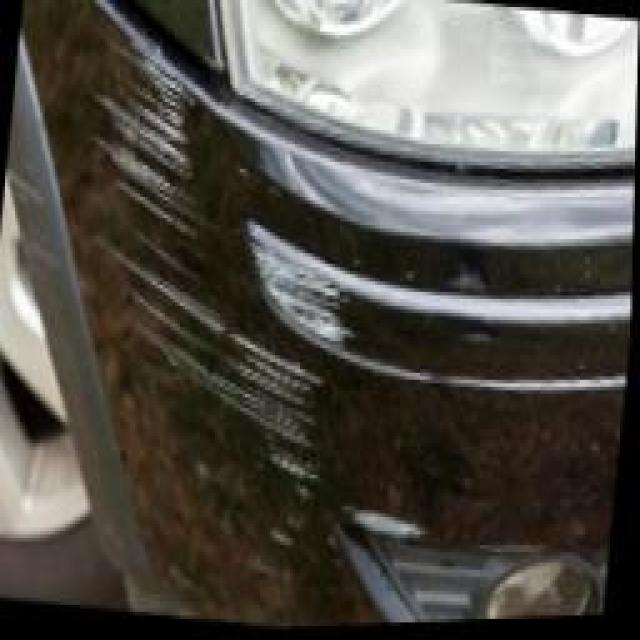Bumper: (28, 0, 409, 629)
